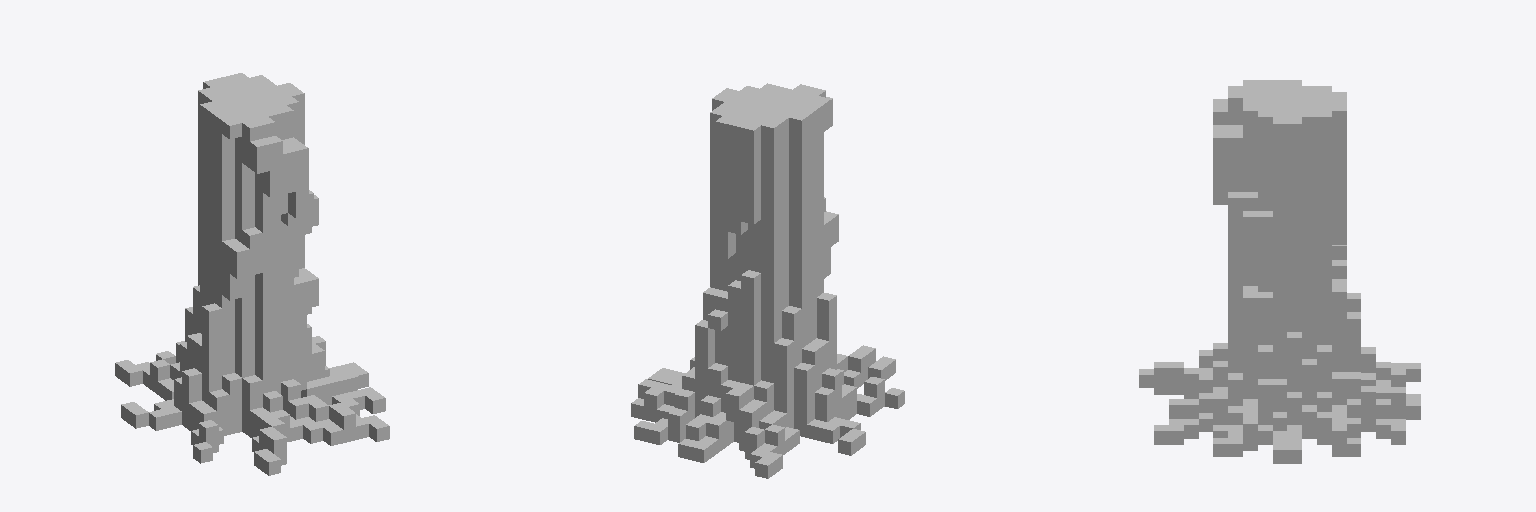
Rendered from tree -2.obj.
The picture shows the model from 3 angles: view 1: azimuth 30°, elevation 25°; view 2: azimuth 150°, elevation 25°; view 3: azimuth 270°, elevation 25°; orthographic projection.
Parts seen in each view (by area): view 1: object 1; view 2: object 1; view 3: object 1.
Part boxes in pixels (x1,y1,x2,y2): object 1: (115, 73, 389, 475); object 1: (631, 83, 904, 478); object 1: (1139, 80, 1420, 463).
Bounding box in the file's own units: 1.7 × 2.3 × 1.9.